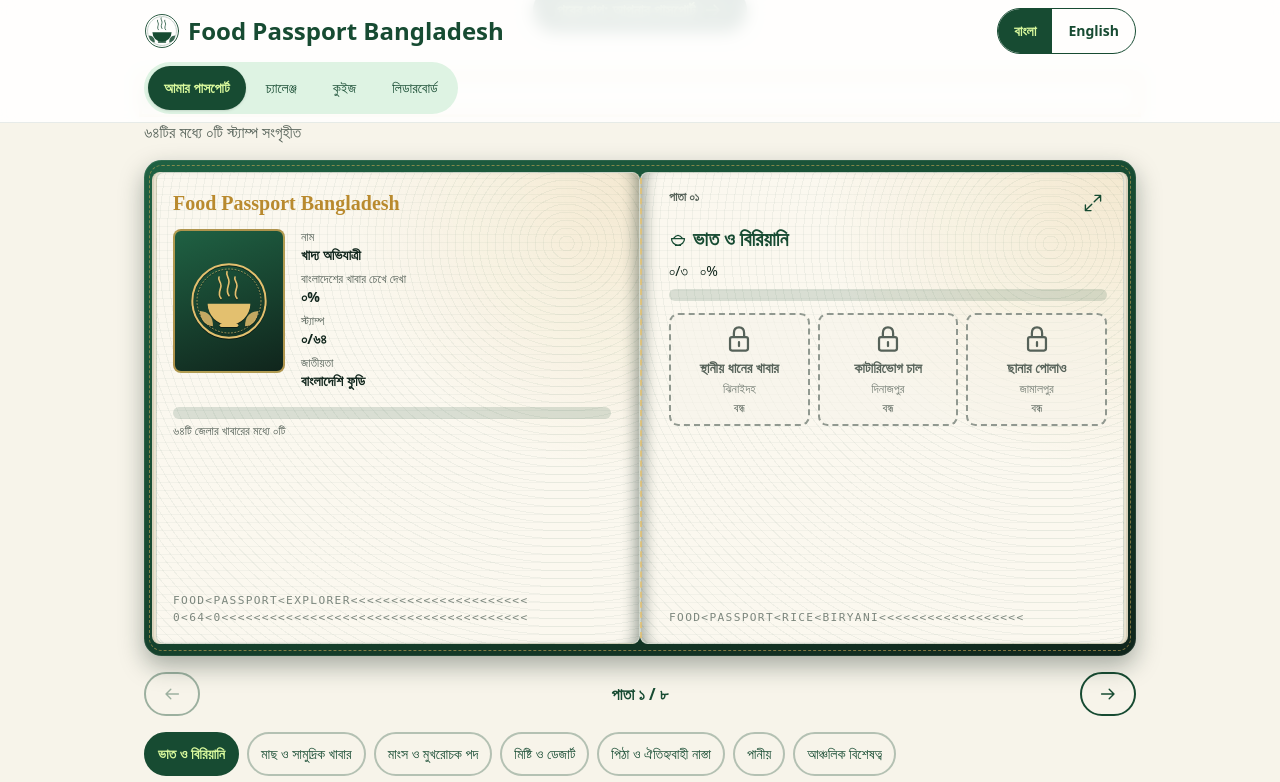
Test: Passport visa pages › a stamp inside the enlarged page opens the food and closes the dialog
The image size is (1280, 782).
(page scrolled)
Click the button named "পাতা বড় করে দেখুন: ভাত ও বিরিয়ানি" at [1093, 203], box left=1071, top=181, right=1115, bottom=225
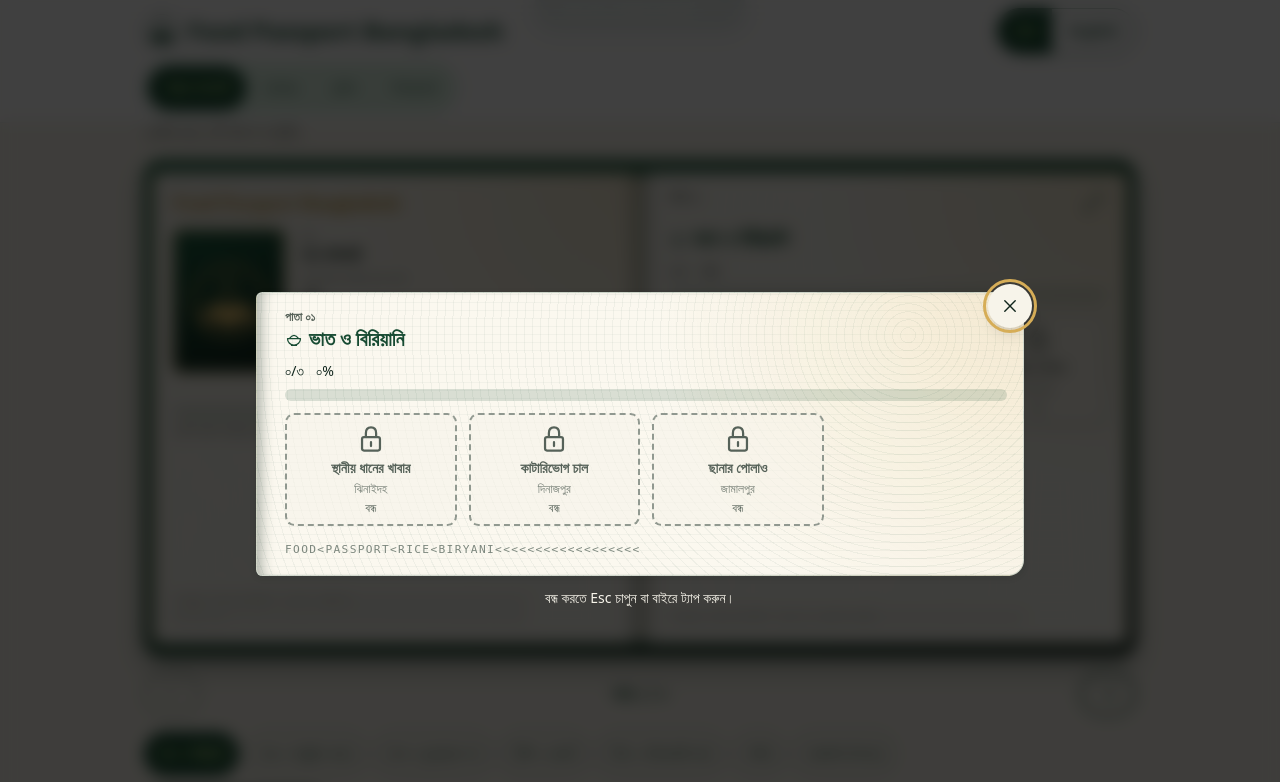
Click the link "কাটারিভোগ চাল দিনাজপুর বন্ধ" at [554, 470], box left=468, top=413, right=640, bottom=526
(page scrolled)
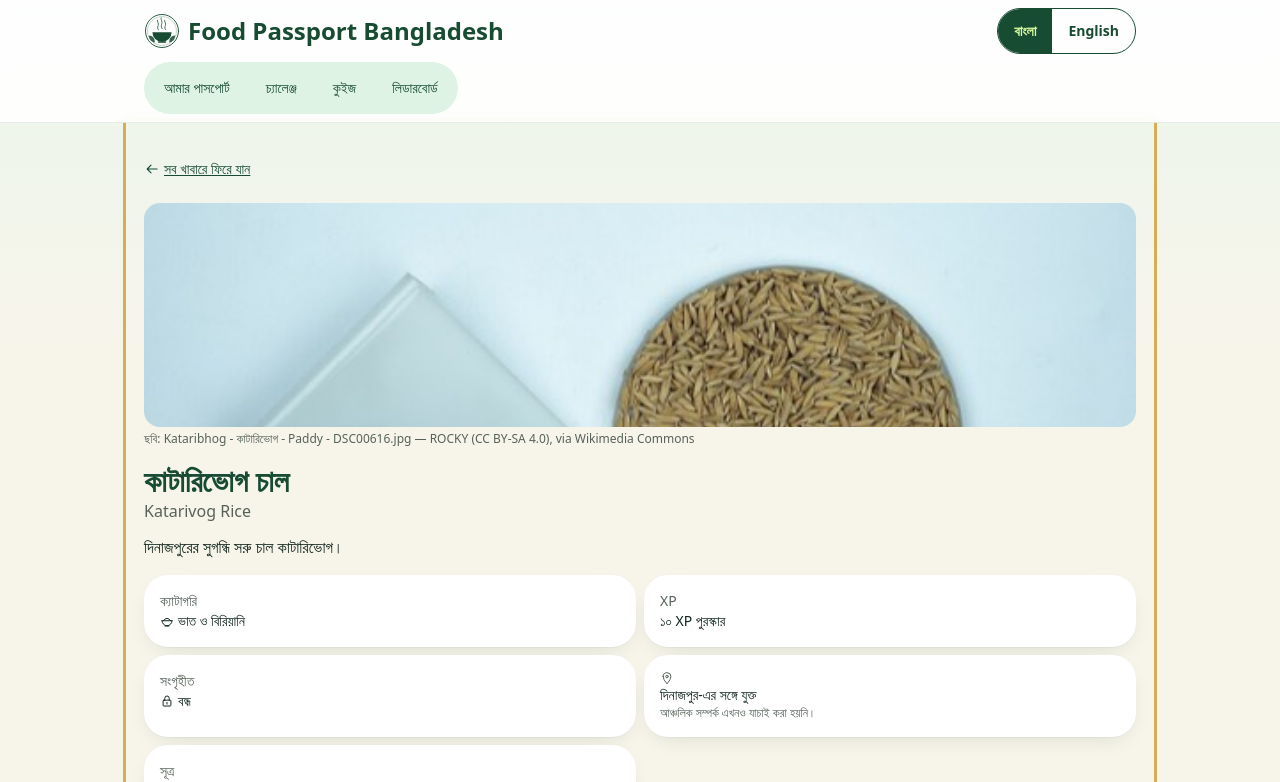
Expected: the dialog is gone
